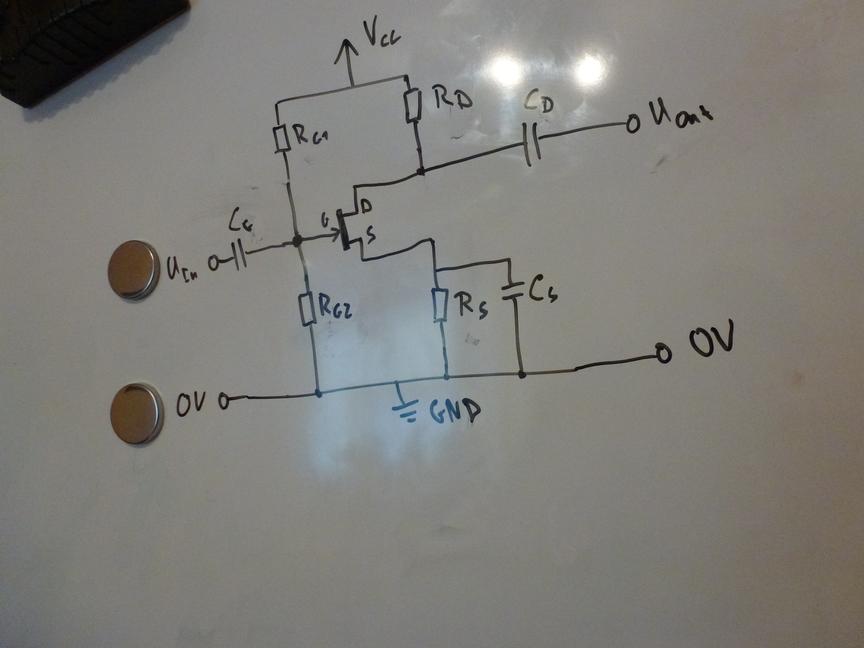capacitor.unpolarized: (518, 120, 546, 168), (230, 238, 251, 271), (500, 280, 526, 303)
gnd: (391, 398, 420, 424)
junction: (290, 233, 306, 248), (312, 387, 325, 400), (415, 165, 427, 177), (517, 368, 528, 381), (271, 99, 283, 109), (427, 235, 437, 245), (442, 371, 451, 382), (402, 72, 411, 83), (358, 256, 367, 266), (392, 378, 402, 386), (505, 255, 513, 265), (431, 266, 439, 275), (349, 82, 357, 91), (352, 183, 359, 191)
resistor: (402, 86, 424, 124), (296, 290, 318, 327), (430, 285, 450, 325), (272, 122, 292, 154)
terminal: (652, 340, 675, 366), (624, 112, 643, 136), (216, 390, 231, 411), (206, 253, 221, 273)
text: (648, 96, 715, 129), (689, 318, 738, 358), (429, 397, 481, 424), (363, 14, 402, 48), (432, 83, 473, 110), (453, 291, 490, 320), (318, 291, 353, 321), (165, 255, 199, 285), (528, 274, 559, 304), (175, 390, 206, 417), (291, 123, 329, 145), (524, 88, 554, 113), (227, 206, 254, 233), (366, 224, 377, 245), (360, 197, 373, 214), (320, 211, 330, 229)
transistor: (330, 207, 365, 252)
vss: (333, 38, 360, 65)
